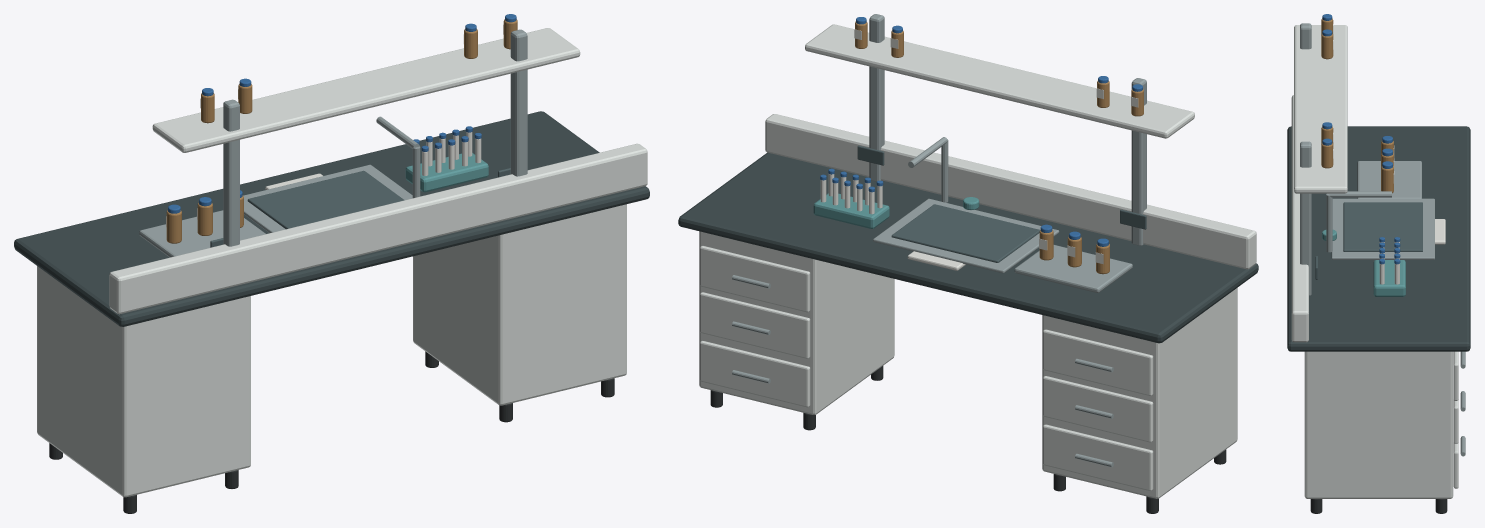
The model's file is LabSink.fbx.
The picture shows the model from 3 angles, left to right: view 1: azimuth 30°, elevation 25°; view 2: azimuth 150°, elevation 25°; view 3: azimuth 270°, elevation 25°; orthographic projection. The views are drawn at different scales.
Visible parts, largest first — view 1: LabSink; view 2: LabSink; view 3: LabSink.
Part boxes in pixels (left/top/right/bottom): LabSink: left=14, top=14, right=649, bottom=513; LabSink: left=678, top=14, right=1258, bottom=513; LabSink: left=1287, top=14, right=1470, bottom=513.
Size of the model in its own units: 240 by 171 by 85.
